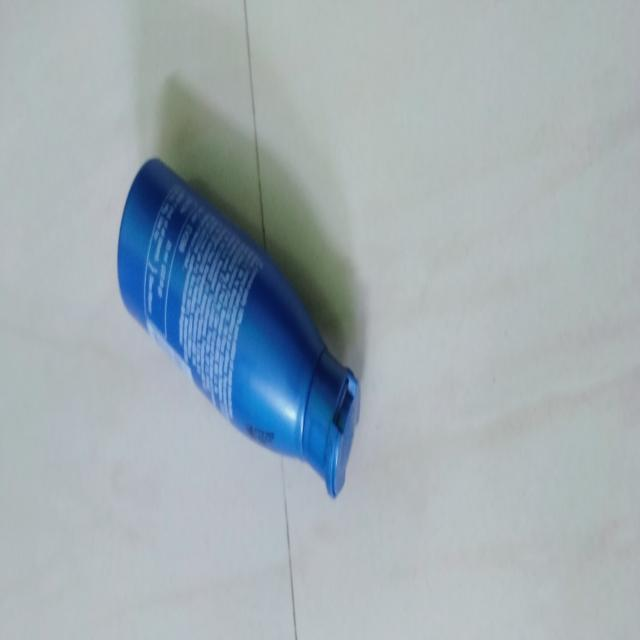oil: (109, 154, 362, 505)
